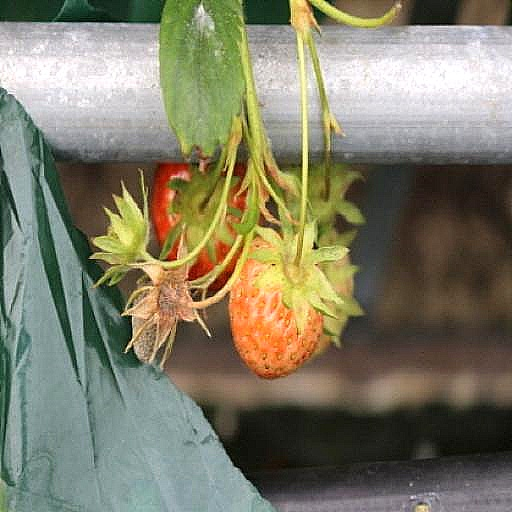Gray Mold: (314, 261, 387, 364)
